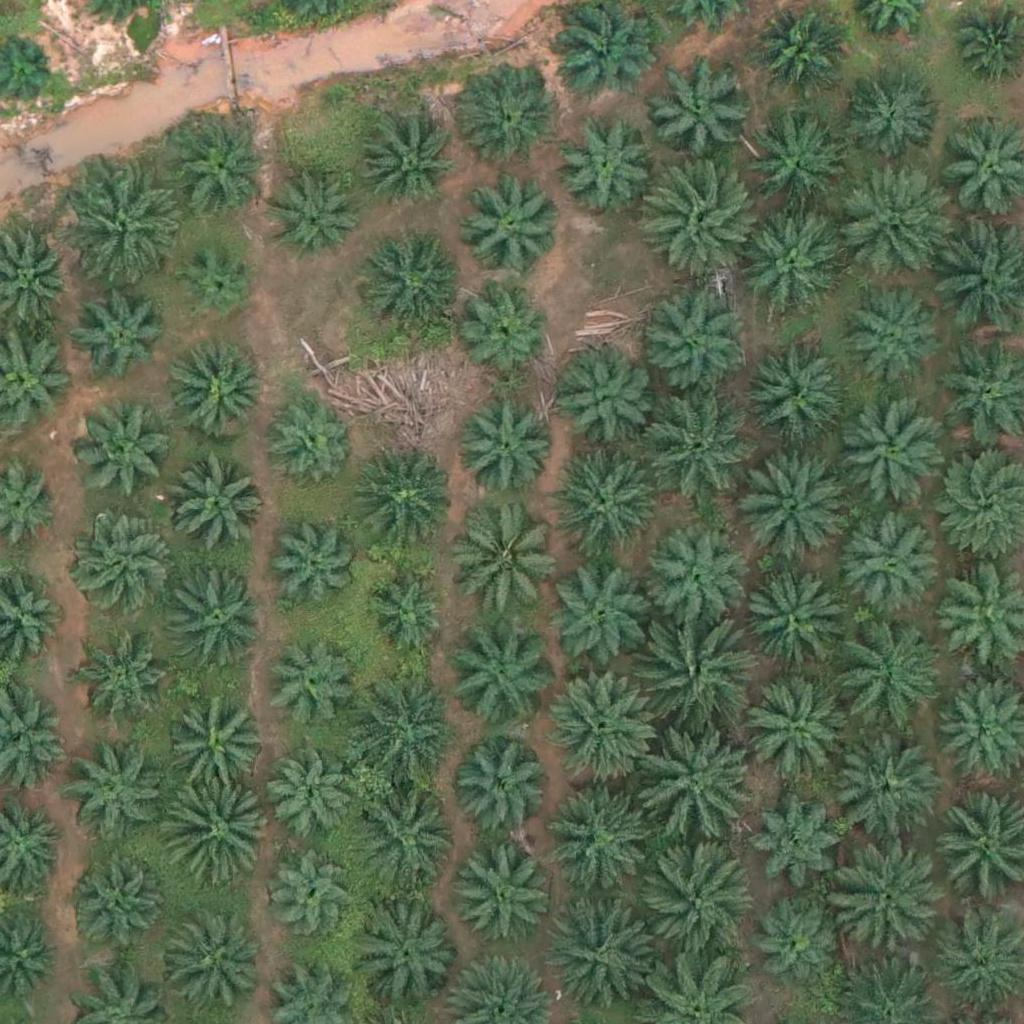Kelapa_Sawit: (828, 737, 941, 851), (546, 894, 659, 1008), (834, 163, 947, 277), (66, 171, 179, 285), (636, 620, 749, 733), (645, 849, 758, 962), (546, 784, 659, 897), (443, 621, 556, 734), (349, 776, 462, 889), (350, 676, 463, 789), (833, 398, 946, 511), (544, 442, 657, 555), (160, 775, 272, 889), (835, 619, 947, 732), (836, 851, 948, 964), (741, 672, 853, 785), (642, 732, 754, 845), (545, 668, 657, 781), (739, 447, 851, 560), (643, 392, 755, 505), (637, 282, 749, 395), (644, 162, 756, 275), (453, 505, 565, 618), (171, 119, 271, 220), (651, 58, 751, 159), (457, 62, 557, 163), (357, 111, 457, 212), (748, 794, 848, 895), (448, 739, 548, 840), (456, 843, 556, 944), (359, 907, 459, 1008), (171, 699, 271, 800), (63, 747, 163, 848), (65, 857, 165, 958), (841, 511, 941, 612), (840, 282, 940, 383), (739, 212, 839, 313), (743, 345, 843, 446), (738, 573, 838, 674), (647, 528, 747, 629), (554, 349, 654, 450), (547, 563, 647, 664), (459, 397, 559, 498), (462, 172, 562, 273), (358, 232, 458, 333), (71, 513, 171, 614), (553, 113, 653, 213), (159, 910, 259, 1010), (842, 64, 942, 164), (749, 119, 849, 219), (353, 451, 453, 551), (167, 340, 267, 440), (167, 453, 267, 553), (166, 568, 266, 668), (75, 398, 175, 498), (262, 643, 350, 731), (266, 755, 354, 843), (85, 644, 173, 732), (362, 564, 450, 652), (272, 174, 360, 262), (754, 9, 841, 97), (760, 898, 847, 986), (268, 852, 355, 940), (462, 284, 549, 372), (269, 518, 356, 606), (266, 395, 353, 483), (76, 295, 163, 383), (180, 244, 255, 320)
